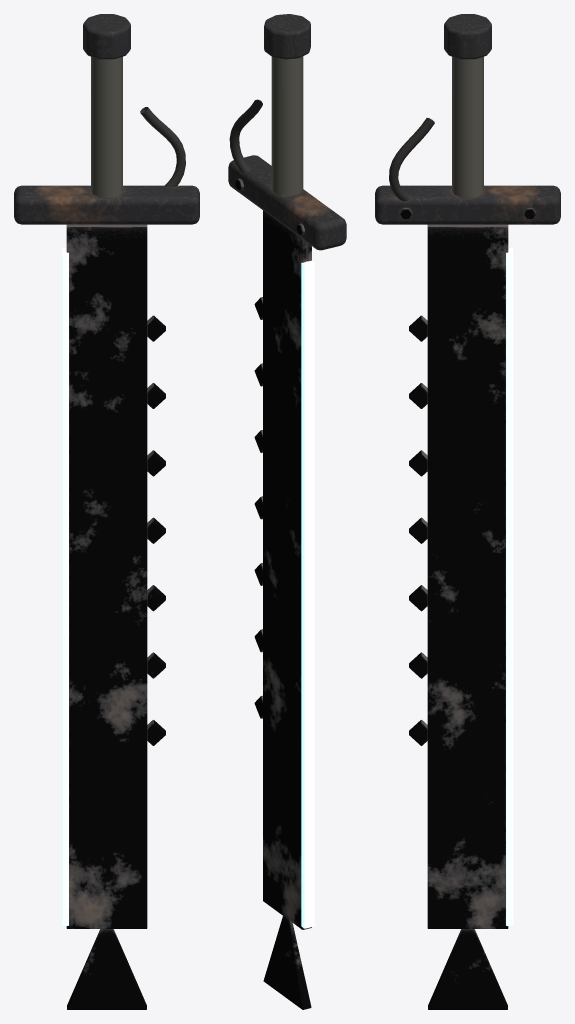
The model's file is espada.glb.
3 views of the same model, side by side, from view 1: azimuth 90°, elevation 25°; view 2: azimuth 210°, elevation 25°; view 3: azimuth 270°, elevation 25° (orthographic).
Visible parts, largest first — view 1: espada; view 2: espada; view 3: espada.
Part boxes in pixels (x1,y1,x2,y2): espada: (14,14,199,1009); espada: (228,14,346,1009); espada: (375,14,560,1009).
Bounding box in the file's own units: 0.0769 × 1.76 × 0.3.
2 materials, 1 textured.
